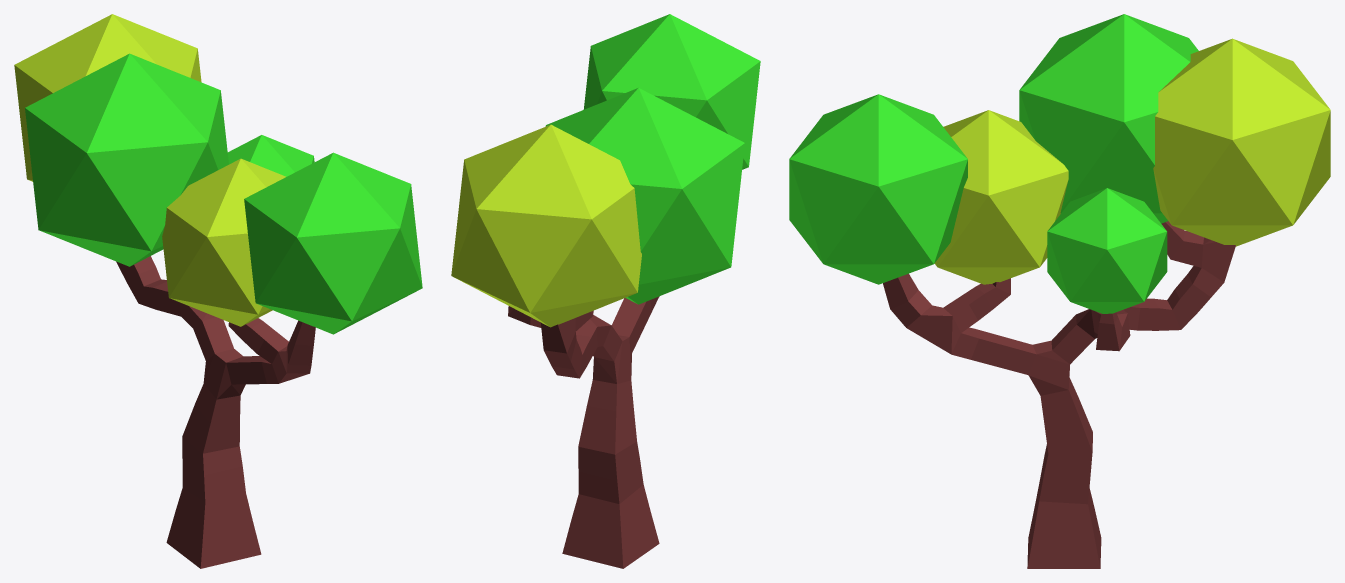
File: Tree01.fbx
3 renders of one model, left to right at view 1: azimuth 30°, elevation 25°; view 2: azimuth 150°, elevation 25°; view 3: azimuth 270°, elevation 25°, orthographic. The views are drawn at different scales.
Visible parts, largest first — view 1: Plane; view 2: Plane; view 3: Plane.
Boxes of the visible parts, x1,y1,x2,y2 form: Plane: [14, 14, 422, 568]; Plane: [451, 14, 760, 568]; Plane: [789, 14, 1330, 568].
Bounding box in the file's own units: 200 × 349 × 335.
